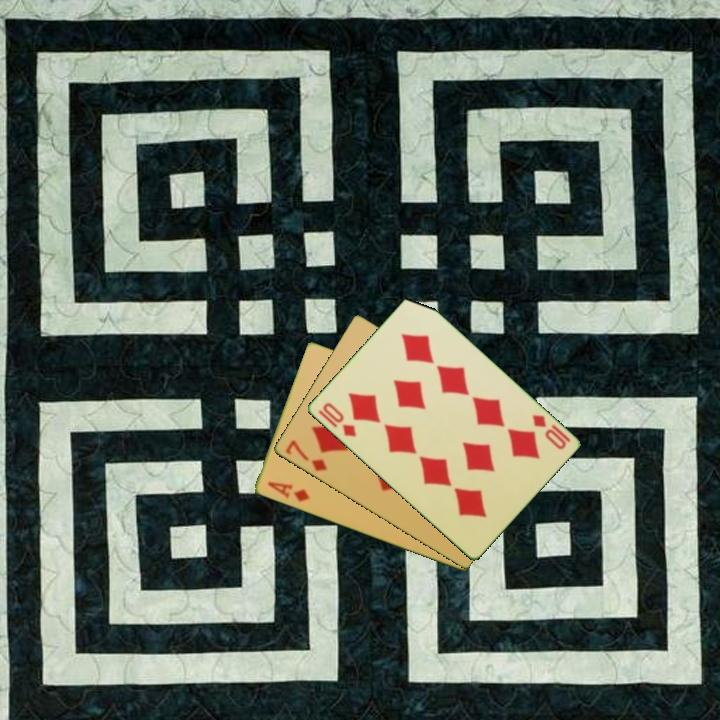10d: (528, 411, 569, 453), (319, 399, 359, 440)
7d: (282, 437, 330, 474)
Ad: (264, 478, 312, 505)
